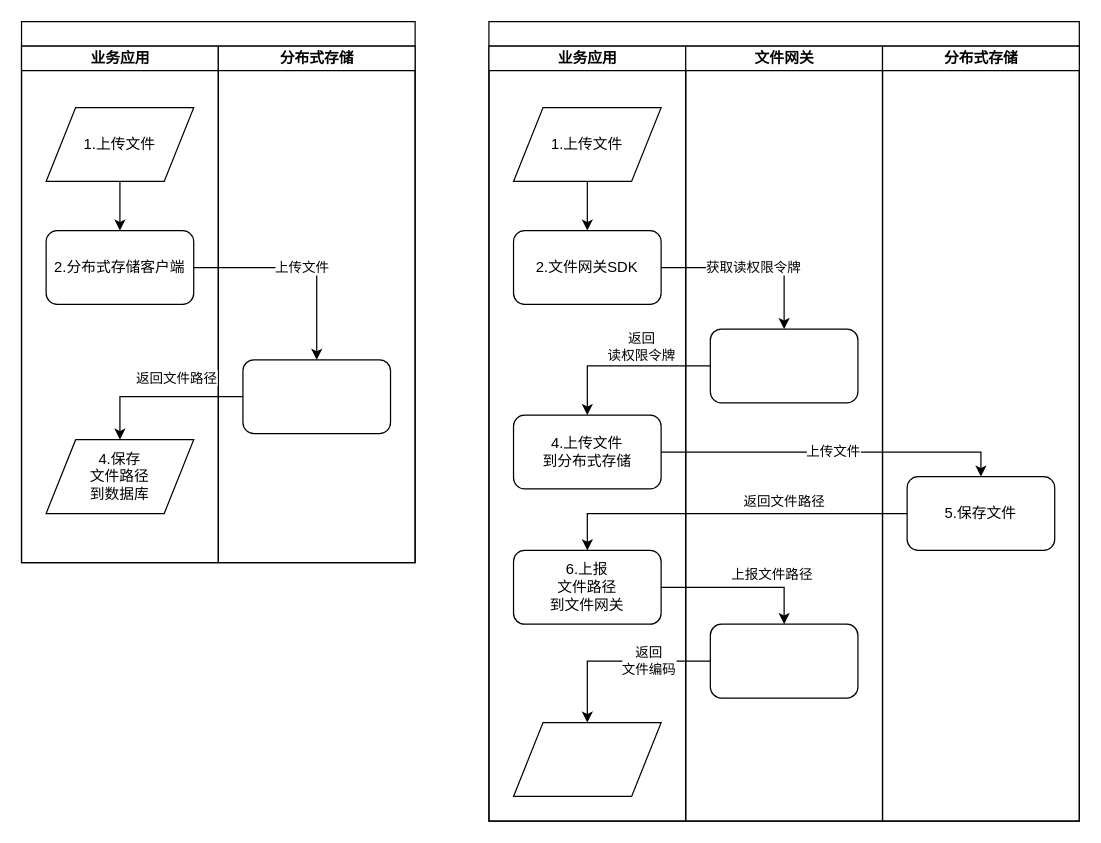
The diagram is 1101 pixels wide and 843 high, and some of its shapes have lost their labels. Each missing label, with the box of its shape:
3.保存文件: (242, 359, 391, 434)
3.校验权限: (709, 328, 858, 403)
7.创建文件记录 生成文件编码: (709, 623, 858, 698)
8.保存 文件编码 到数据库: (512, 721, 661, 796)
基于文件网关的文件上传: (488, 20, 1079, 821)
旧文件上传: (20, 20, 415, 563)
